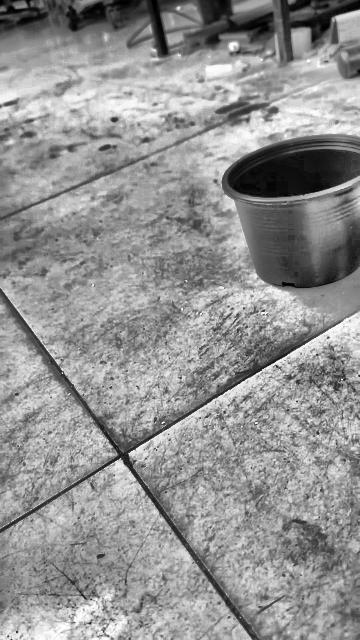pot: (222, 135, 360, 288)
